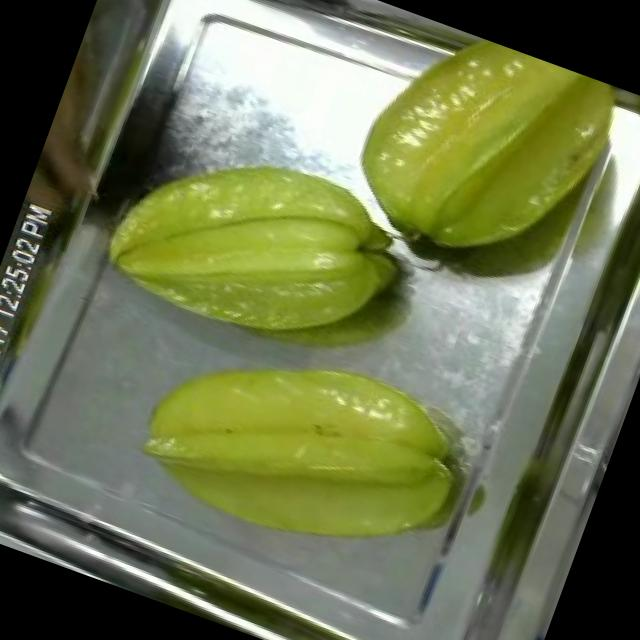fruit: (106, 290, 495, 608), (78, 105, 434, 395), (329, 11, 639, 306)
